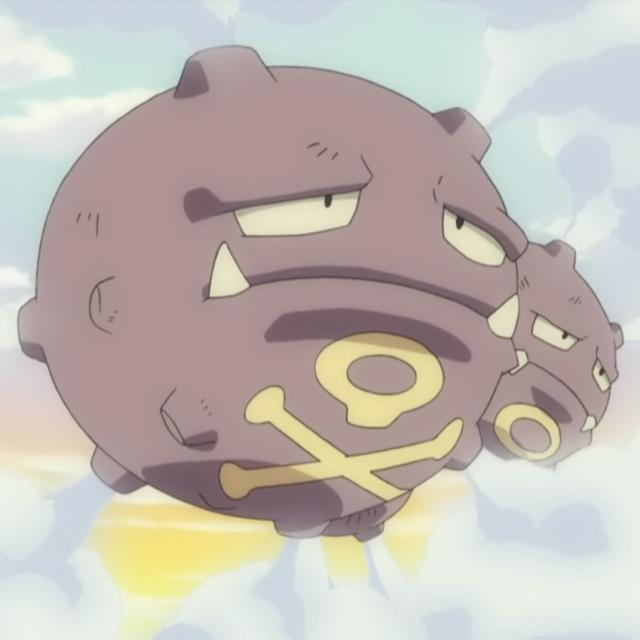Weezing: (17, 45, 624, 544)
